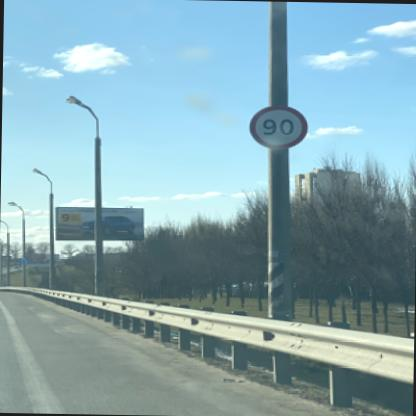speedlimit: (247, 103, 307, 150)
